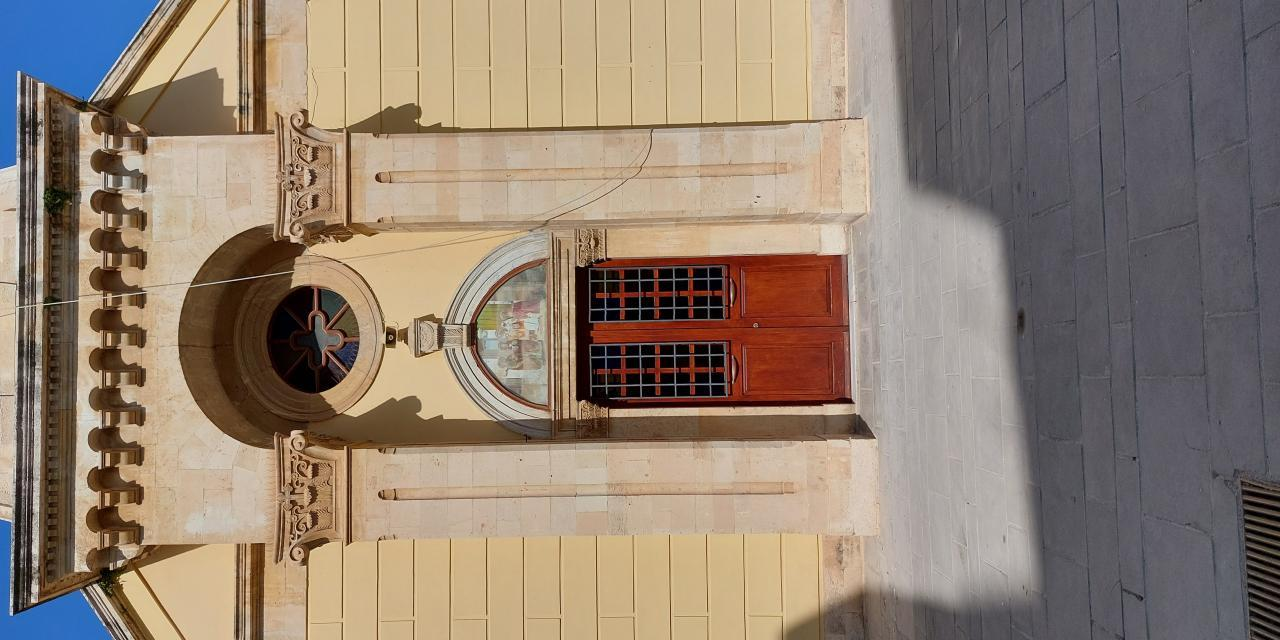Agios Minas: (1, 1, 578, 640)
